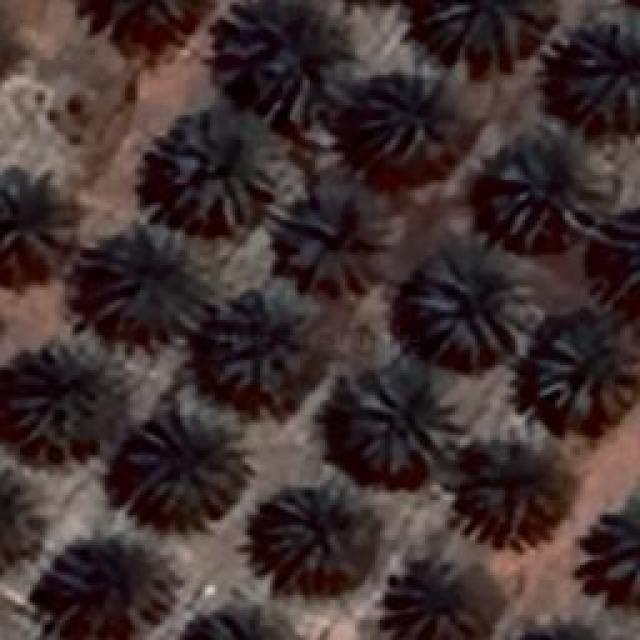PalmTree: (410, 242, 540, 362), (123, 395, 250, 515), (160, 100, 278, 228), (87, 220, 215, 338), (232, 7, 358, 125), (495, 125, 615, 247), (31, 540, 164, 640), (350, 365, 462, 473), (210, 282, 315, 396), (5, 332, 113, 440), (290, 174, 388, 288), (352, 62, 460, 160), (422, 0, 542, 85), (387, 547, 492, 640), (260, 480, 355, 575), (532, 330, 632, 420), (0, 178, 78, 292), (562, 12, 636, 130), (472, 448, 568, 534), (72, 0, 206, 55), (590, 492, 640, 630), (583, 209, 640, 307), (0, 467, 52, 567), (187, 607, 302, 640)
